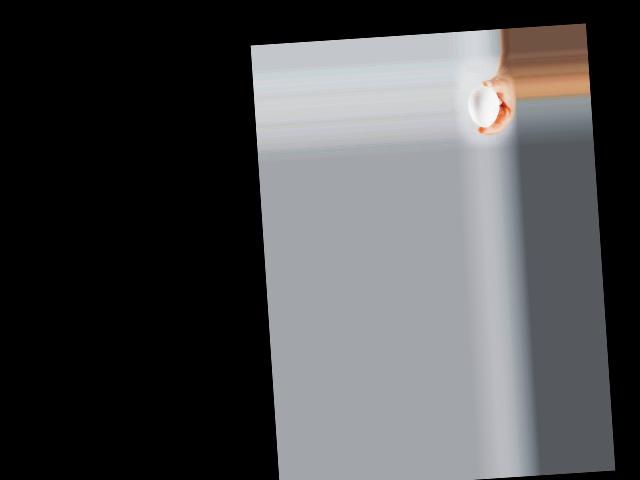egg: (467, 85, 500, 129)
